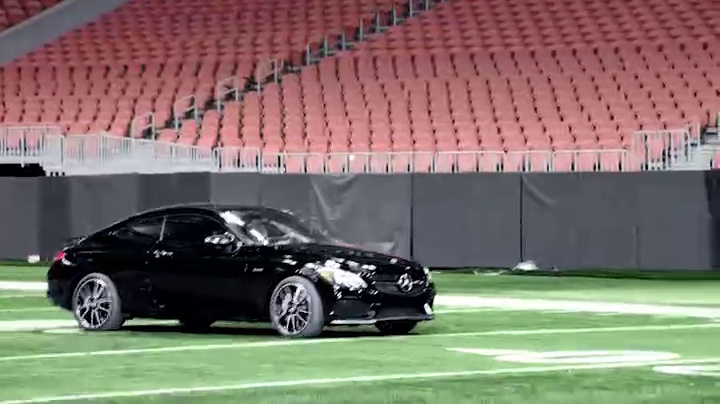amg: (44, 204, 439, 334)
